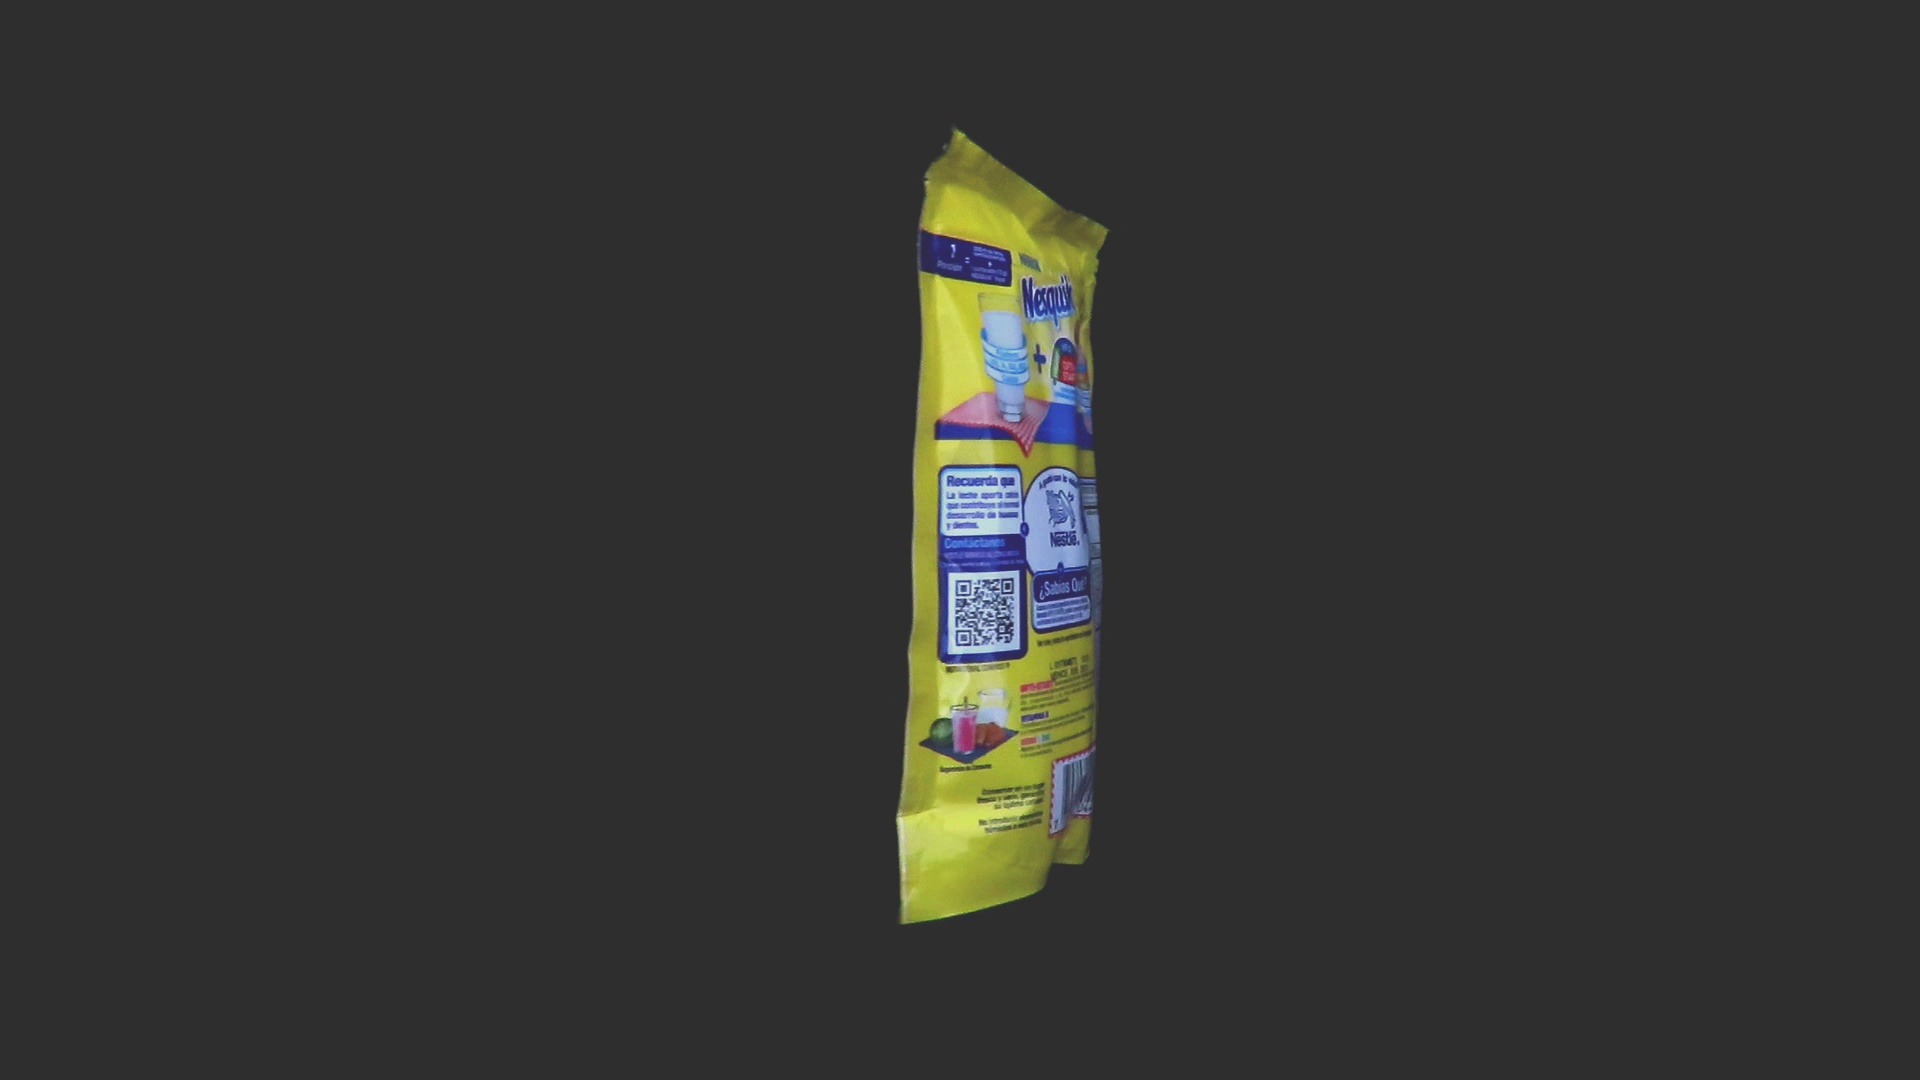COL0170305DYP20000: (891, 123, 1117, 931)
